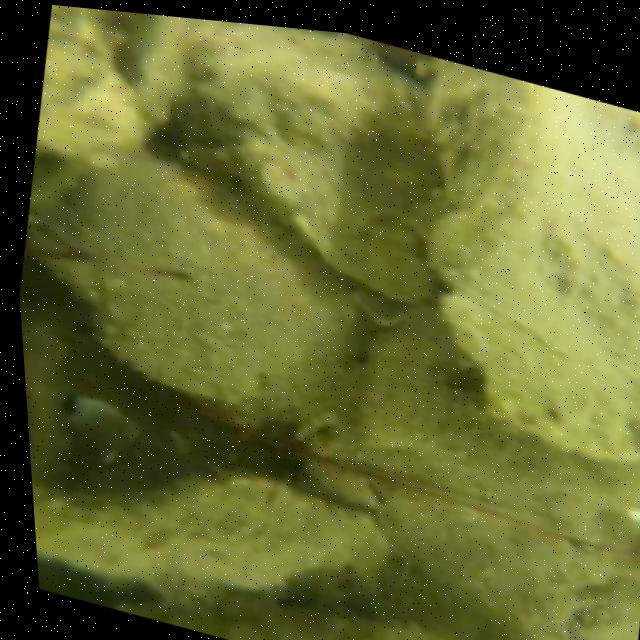Oyster-Closed: (33, 476, 392, 608)
Oyster-Indeterminate: (432, 61, 640, 459), (40, 154, 360, 411), (163, 20, 434, 300)
